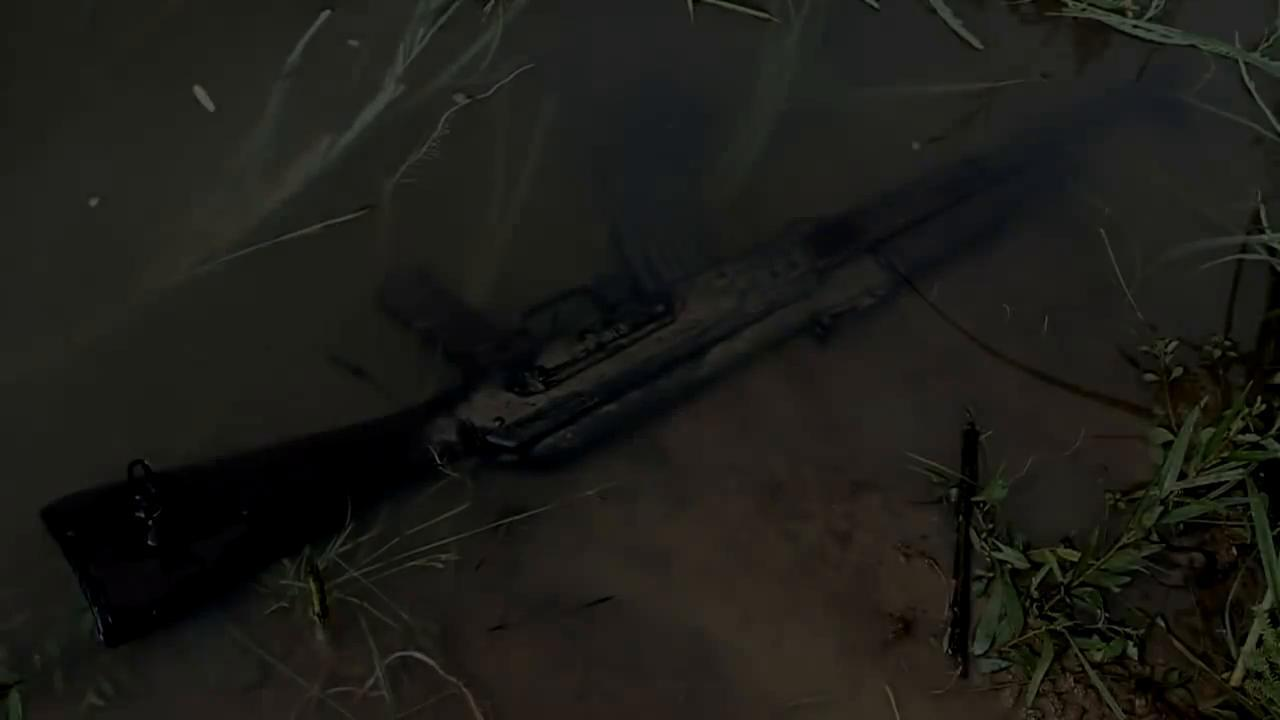AK47 Rifle: (40, 45, 1191, 651)
